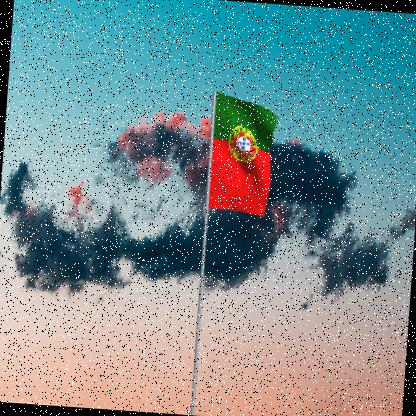pt: (209, 94, 280, 220)
